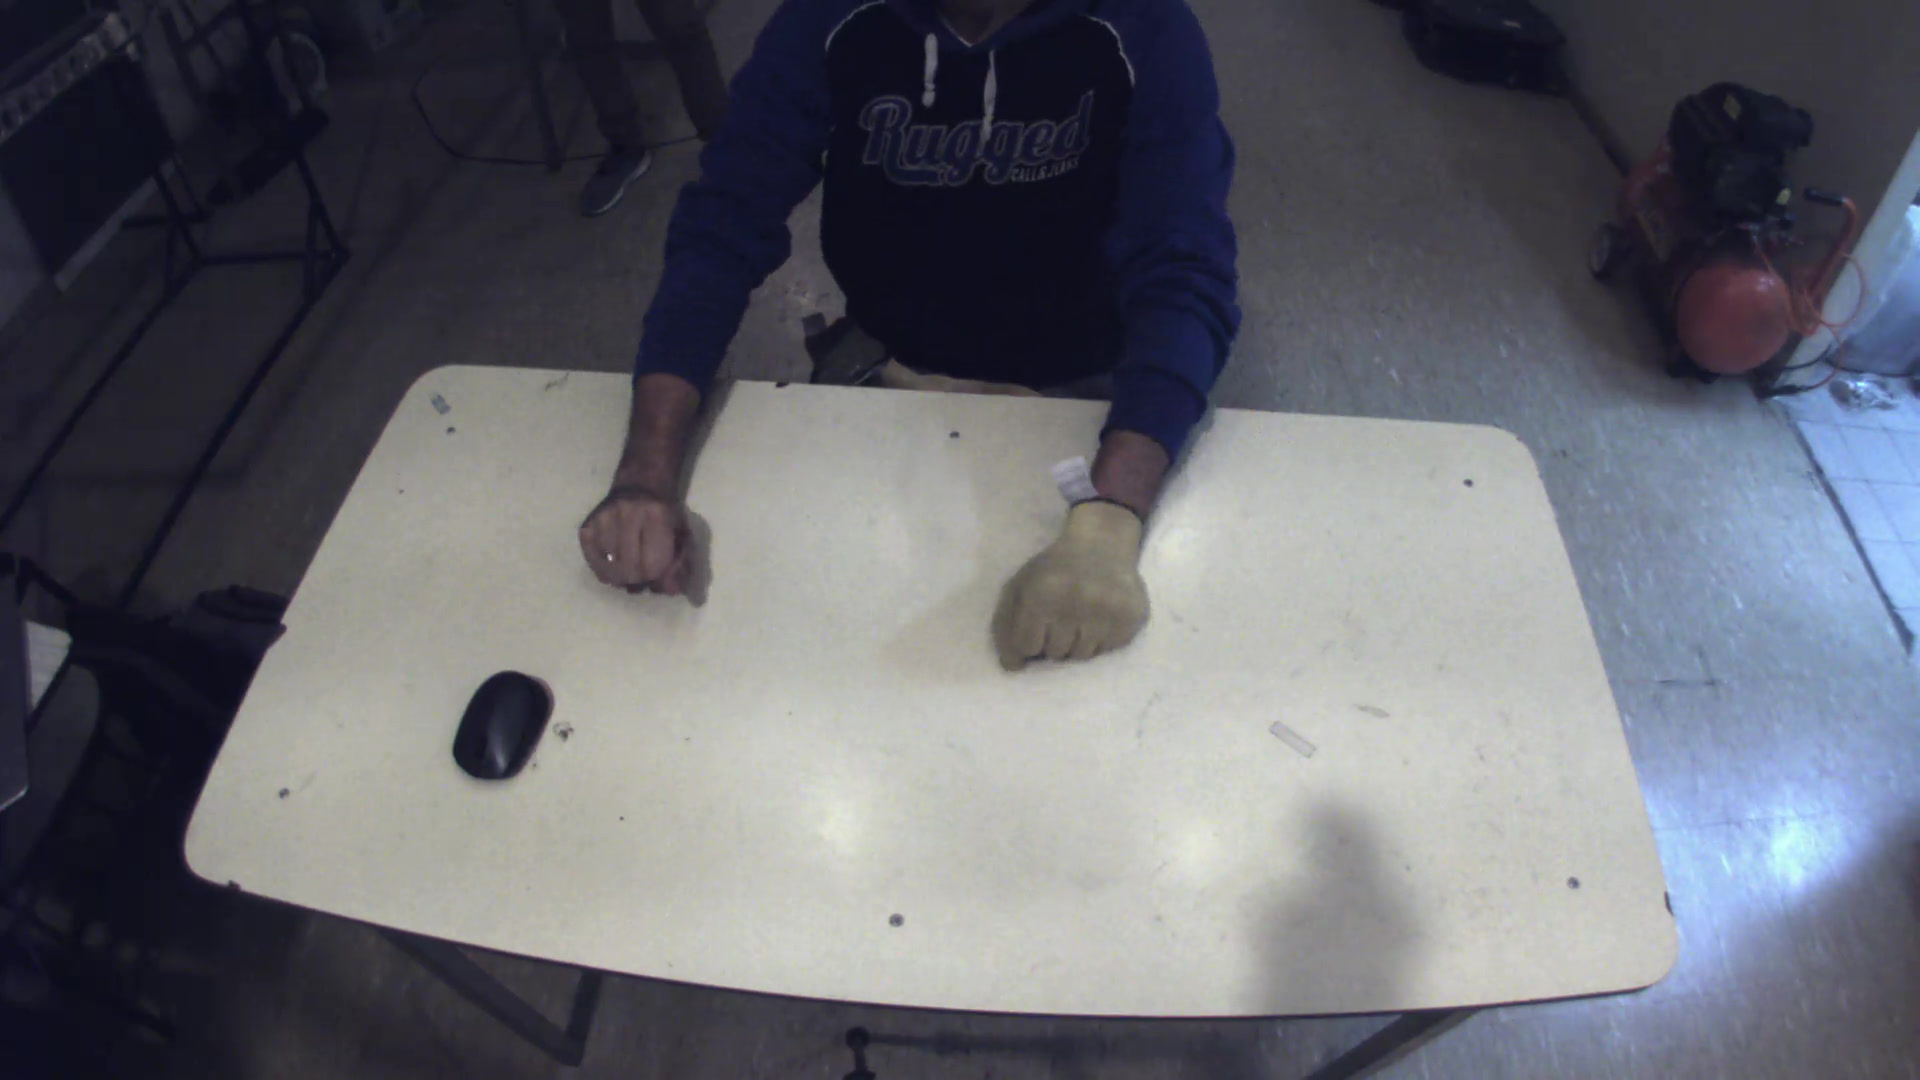hand: (986, 485, 1158, 671), (560, 481, 712, 597)
